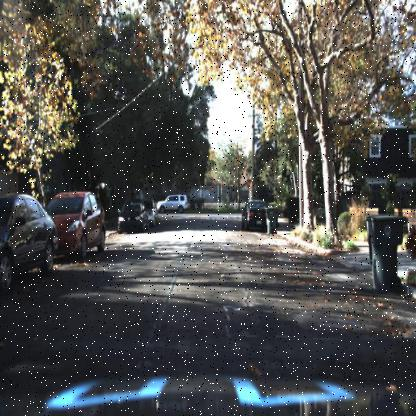car: (0, 193, 59, 298), (43, 184, 108, 260), (57, 184, 106, 269), (117, 198, 148, 236), (238, 198, 270, 234), (157, 195, 188, 214), (146, 199, 160, 232)
